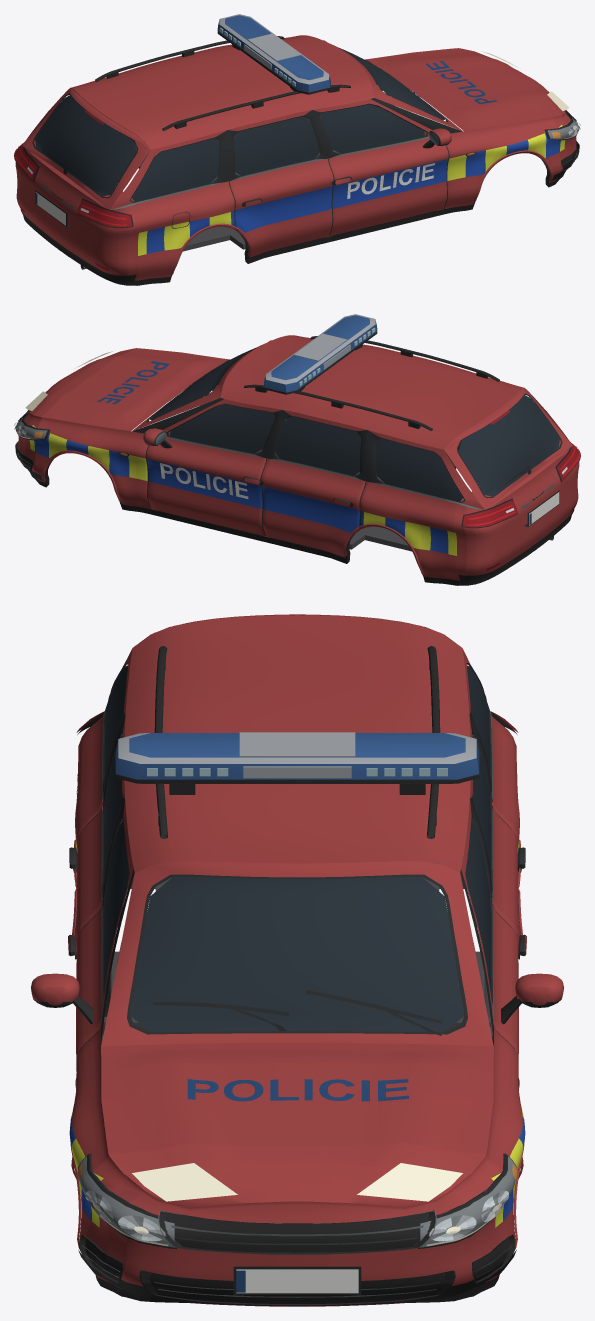
File: police-street.glb
3 views of the same model, one above another, from view 1: azimuth 30°, elevation 25°; view 2: azimuth 150°, elevation 25°; view 3: azimuth 270°, elevation 25° (orthographic). The views are drawn at different scales.
Parts seen in each view (by area): view 1: police, police_door2, police_door4, police_street_trim, police_door2_vinyl, police_vinyl; view 2: police, police_door1, police_door3, police_street_trim, police_door1_vinyl, police_vinyl; view 3: police, police_street_trim, police_door2, police_door1, police_door4, police_door3, police_vinyl.
Part boxes in pixels (<box>): police: <box>15,14,576,285</box>; police_door2: <box>312,99,451,236</box>; police_door4: <box>227,110,333,258</box>; police_street_trim: <box>14,69,580,281</box>; police_door2_vinyl: <box>347,163,434,198</box>; police_vinyl: <box>425,61,496,104</box>; police: <box>18,314,579,585</box>; police_door1: <box>143,399,282,536</box>; police_door3: <box>261,410,367,558</box>; police_street_trim: <box>14,380,580,581</box>; police_door1_vinyl: <box>160,463,248,498</box>; police_vinyl: <box>97,361,169,404</box>; police: <box>69,614,525,1306</box>; police_street_trim: <box>76,711,518,1306</box>; police_door2: <box>31,799,133,1055</box>; police_door1: <box>461,799,563,1055</box>; police_door4: <box>69,717,125,1045</box>; police_door3: <box>469,717,525,1045</box>; police_vinyl: <box>187,1079,408,1101</box>.
Bounding box in the file's own units: 4.8 × 1.47 × 2.22.
